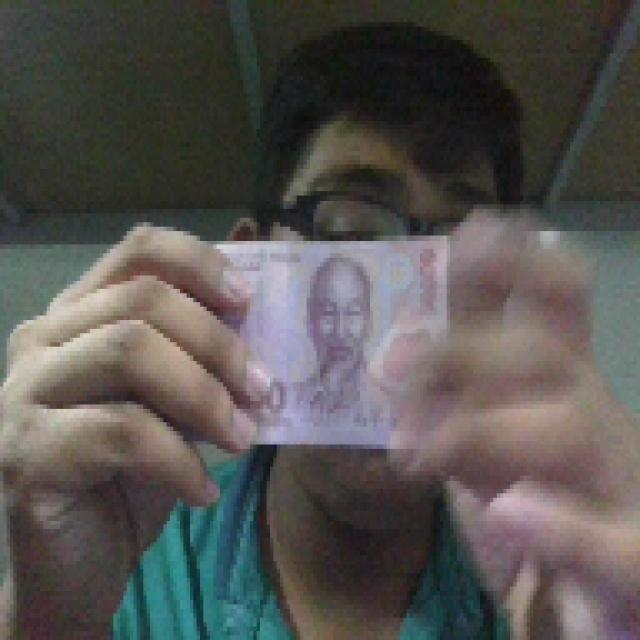50 000 VND: (207, 231, 453, 453)
